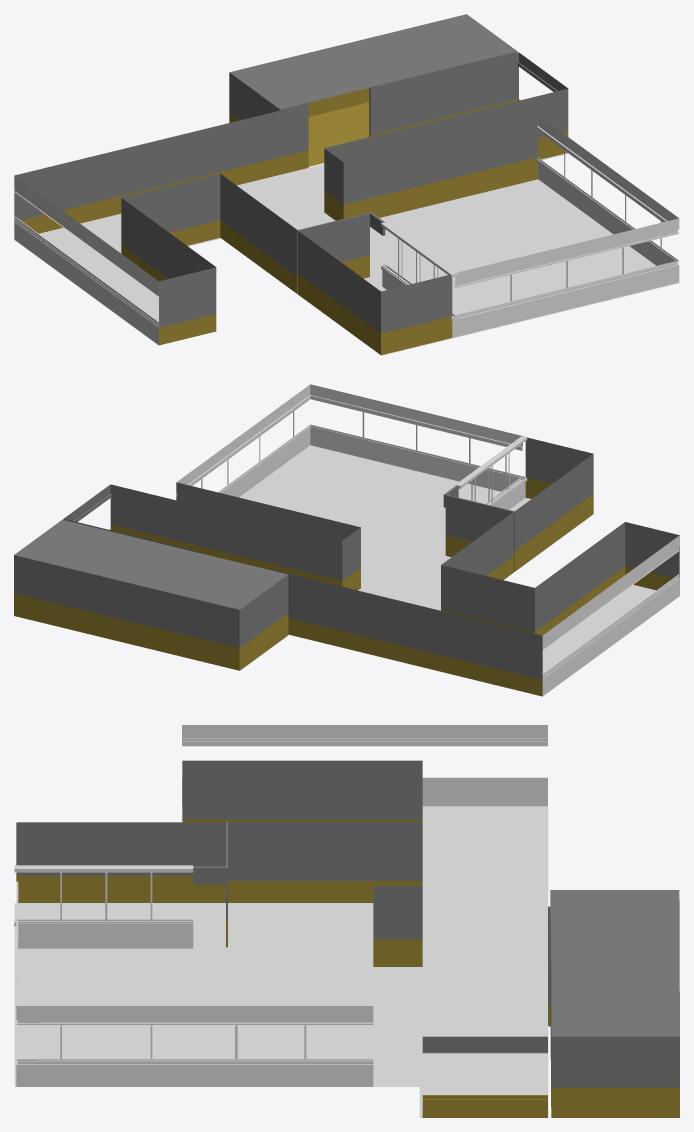
Rendered from OfficeV4FloorAndWalls.FBX.
The picture shows the model from 3 angles, top to bottom: view 1: azimuth 30°, elevation 25°; view 2: azimuth 150°, elevation 25°; view 3: azimuth 270°, elevation 25°; orthographic projection. The views are drawn at different scales.
Visible parts, largest first — view 1: Floor, CorridorHallway_002, CorridorHallwayToMainOfficeWall_001, InterrogationRoom_001, CorridorHallway_003, DetectiveOfficeWalls_001, MainOfficeLongWall_001, CorridorHallway_004 (Notseen), MainOfficeLongWall_002, DetectiveOfficeSideWall_001, DdetectiveWindowWall_001, CorridorHallway_001; view 2: InterrogationRoom_001, Floor, CorridorHallway_002, CorridorHallwayToMainOfficeWall_001, CorridorHallway_003, MainOfficeLongWall_001, DetectiveOfficeWalls_001, CorridorHallway_004 (Notseen), MainOfficeLongWall_002, DetectiveOfficeSideWall_001, DdetectiveWindowWall_001, CorridorHallway_001; view 3: Floor, CorridorHallway_003, InterrogationRoom_001, MainOfficeLongWall_002, DetectiveOfficeWalls_001, CorridorHallway_004 (Notseen), DdetectiveWindowWall_001, CorridorHallway_001, CorridorHallwayToMainOfficeWall_001, DetectiveOfficeSideWall_001.
Boxes of the visible parts, x1,y1,x2,y2 form: Floor: [16, 153, 679, 355]; CorridorHallway_002: [14, 52, 518, 233]; CorridorHallwayToMainOfficeWall_001: [324, 89, 568, 220]; InterrogationRoom_001: [229, 14, 517, 166]; CorridorHallway_003: [121, 173, 297, 345]; DetectiveOfficeWalls_001: [298, 231, 452, 355]; MainOfficeLongWall_001: [454, 218, 679, 336]; CorridorHallway_004 (Notseen): [14, 175, 159, 345]; MainOfficeLongWall_002: [536, 115, 678, 265]; DetectiveOfficeSideWall_001: [297, 212, 385, 293]; DdetectiveWindowWall_001: [381, 222, 457, 337]; CorridorHallway_001: [517, 52, 568, 136]; InterrogationRoom_001: [14, 519, 288, 670]; Floor: [239, 445, 679, 696]; CorridorHallway_002: [63, 518, 542, 696]; CorridorHallwayToMainOfficeWall_001: [110, 482, 360, 590]; CorridorHallway_003: [441, 512, 679, 635]; MainOfficeLongWall_001: [310, 384, 522, 491]; DetectiveOfficeWalls_001: [514, 437, 593, 571]; CorridorHallway_004 (Notseen): [542, 535, 679, 695]; MainOfficeLongWall_002: [176, 384, 310, 497]; DetectiveOfficeSideWall_001: [443, 485, 514, 571]; DdetectiveWindowWall_001: [455, 435, 527, 509]; CorridorHallway_001: [64, 484, 111, 530]; Floor: [14, 806, 548, 1117]; CorridorHallway_003: [182, 760, 422, 902]; InterrogationRoom_001: [550, 890, 679, 1117]; MainOfficeLongWall_002: [16, 1006, 373, 1086]; DetectiveOfficeWalls_001: [16, 822, 225, 902]; CorridorHallway_004 (Notseen): [182, 725, 547, 806]; DdetectiveWindowWall_001: [14, 865, 193, 948]; CorridorHallway_001: [422, 1036, 547, 1117]; CorridorHallwayToMainOfficeWall_001: [373, 886, 422, 966]; DetectiveOfficeSideWall_001: [193, 822, 227, 947].
Bounding box in the file's own units: 2042 × 248 × 1844.
